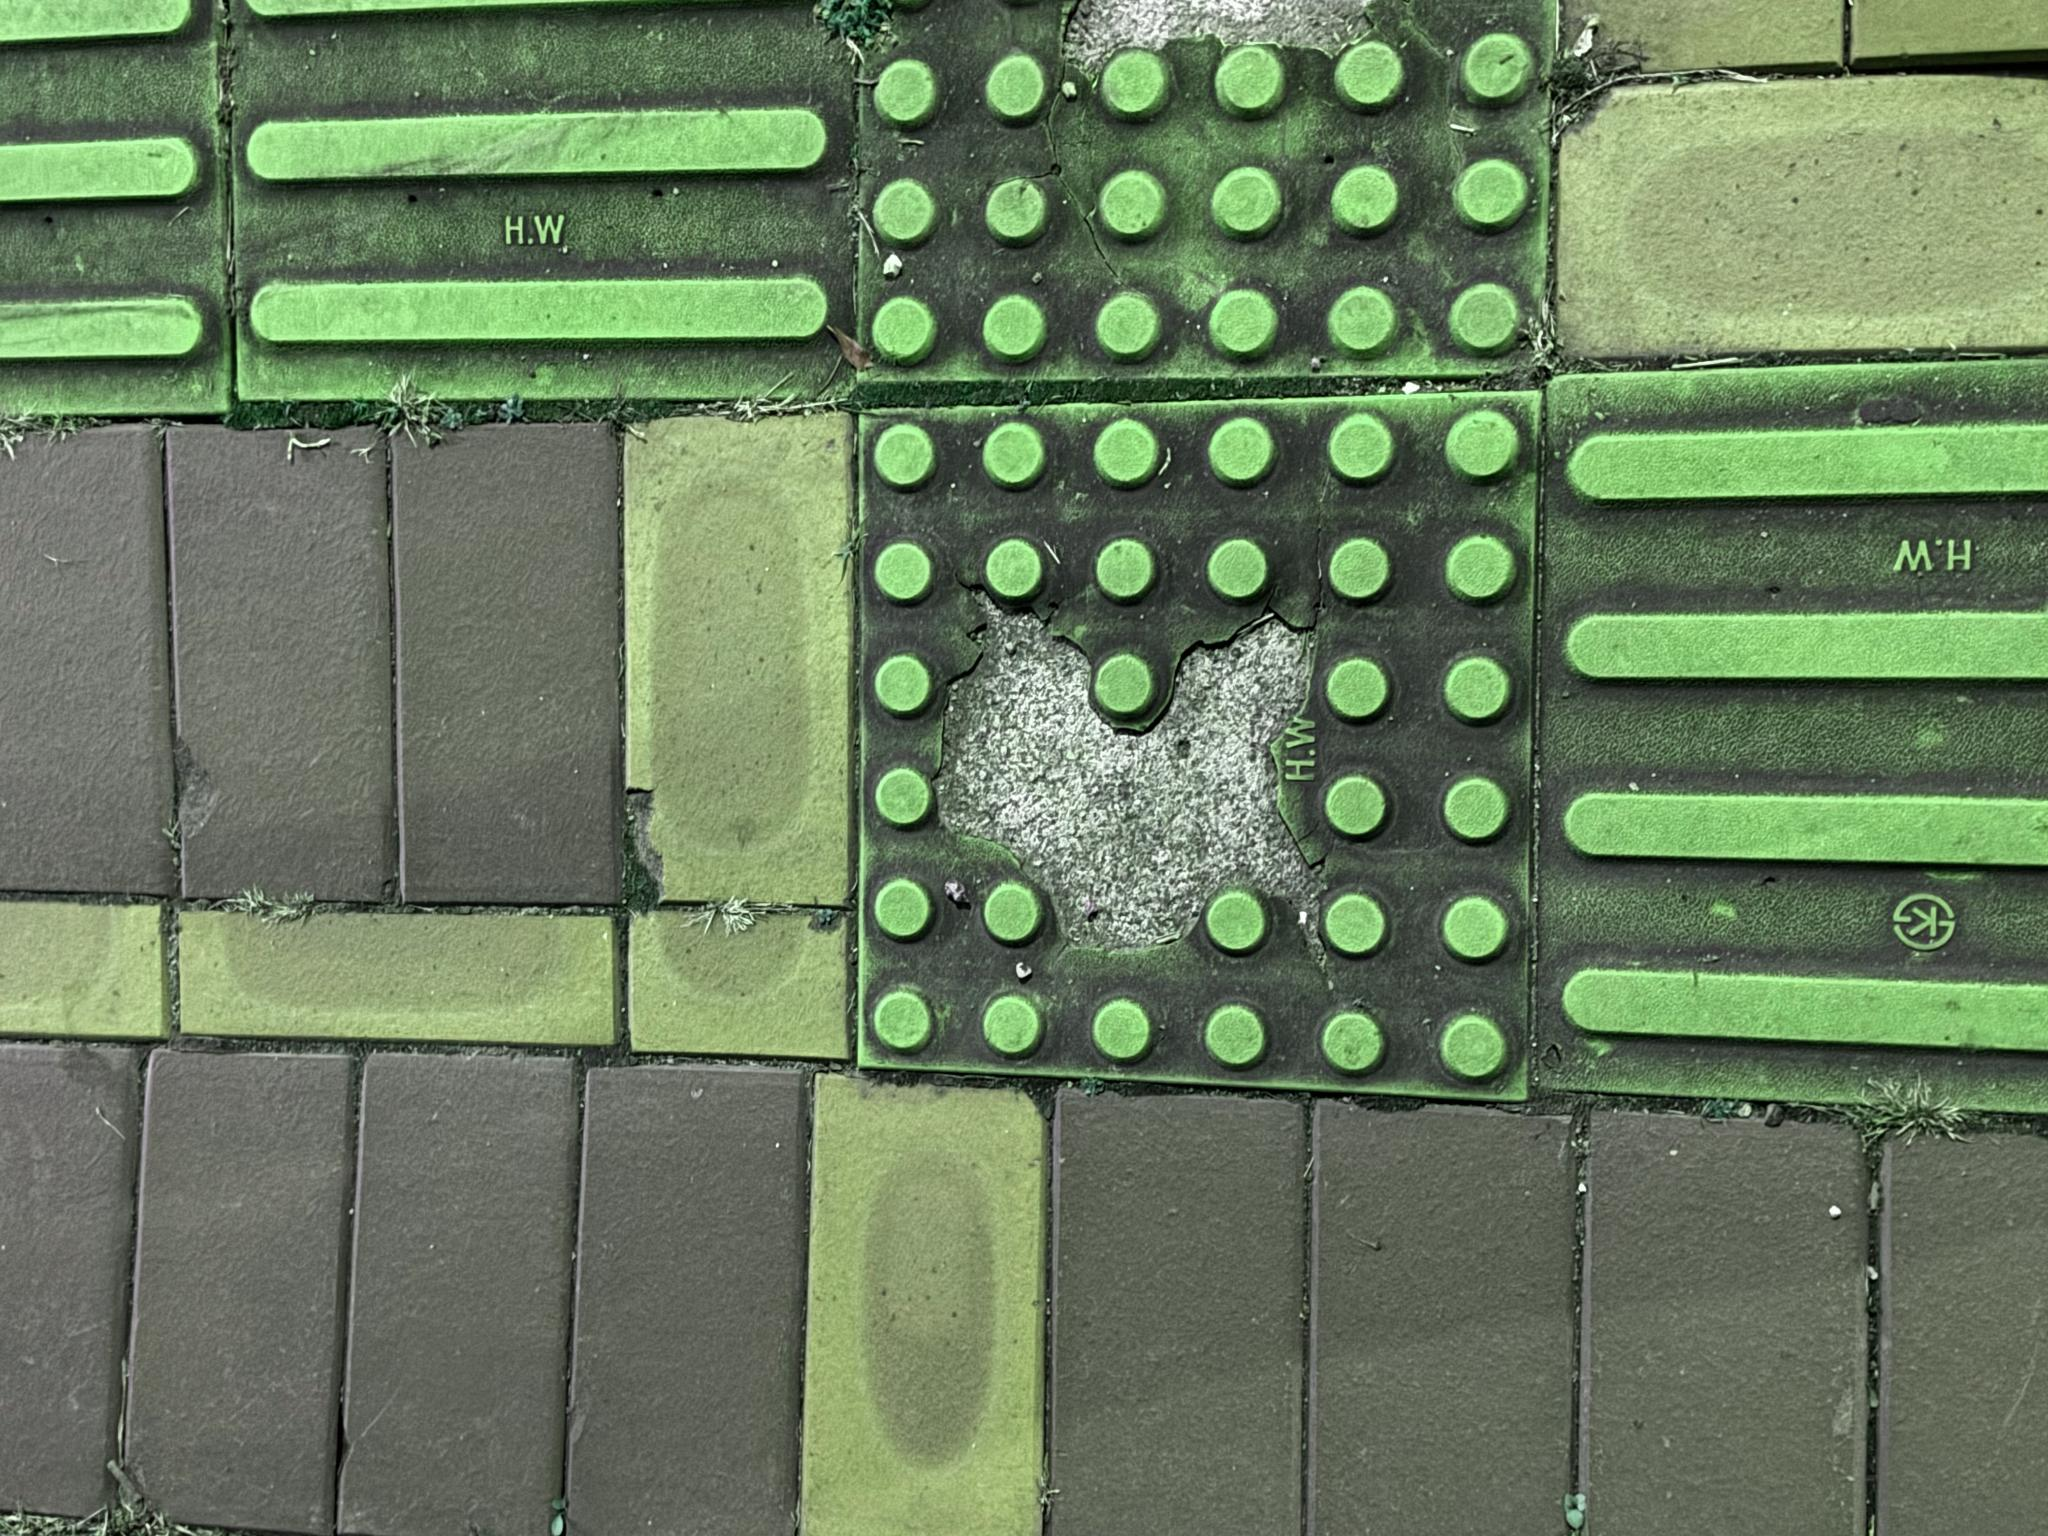Stop block broken: (442, 860, 1135, 1530)
